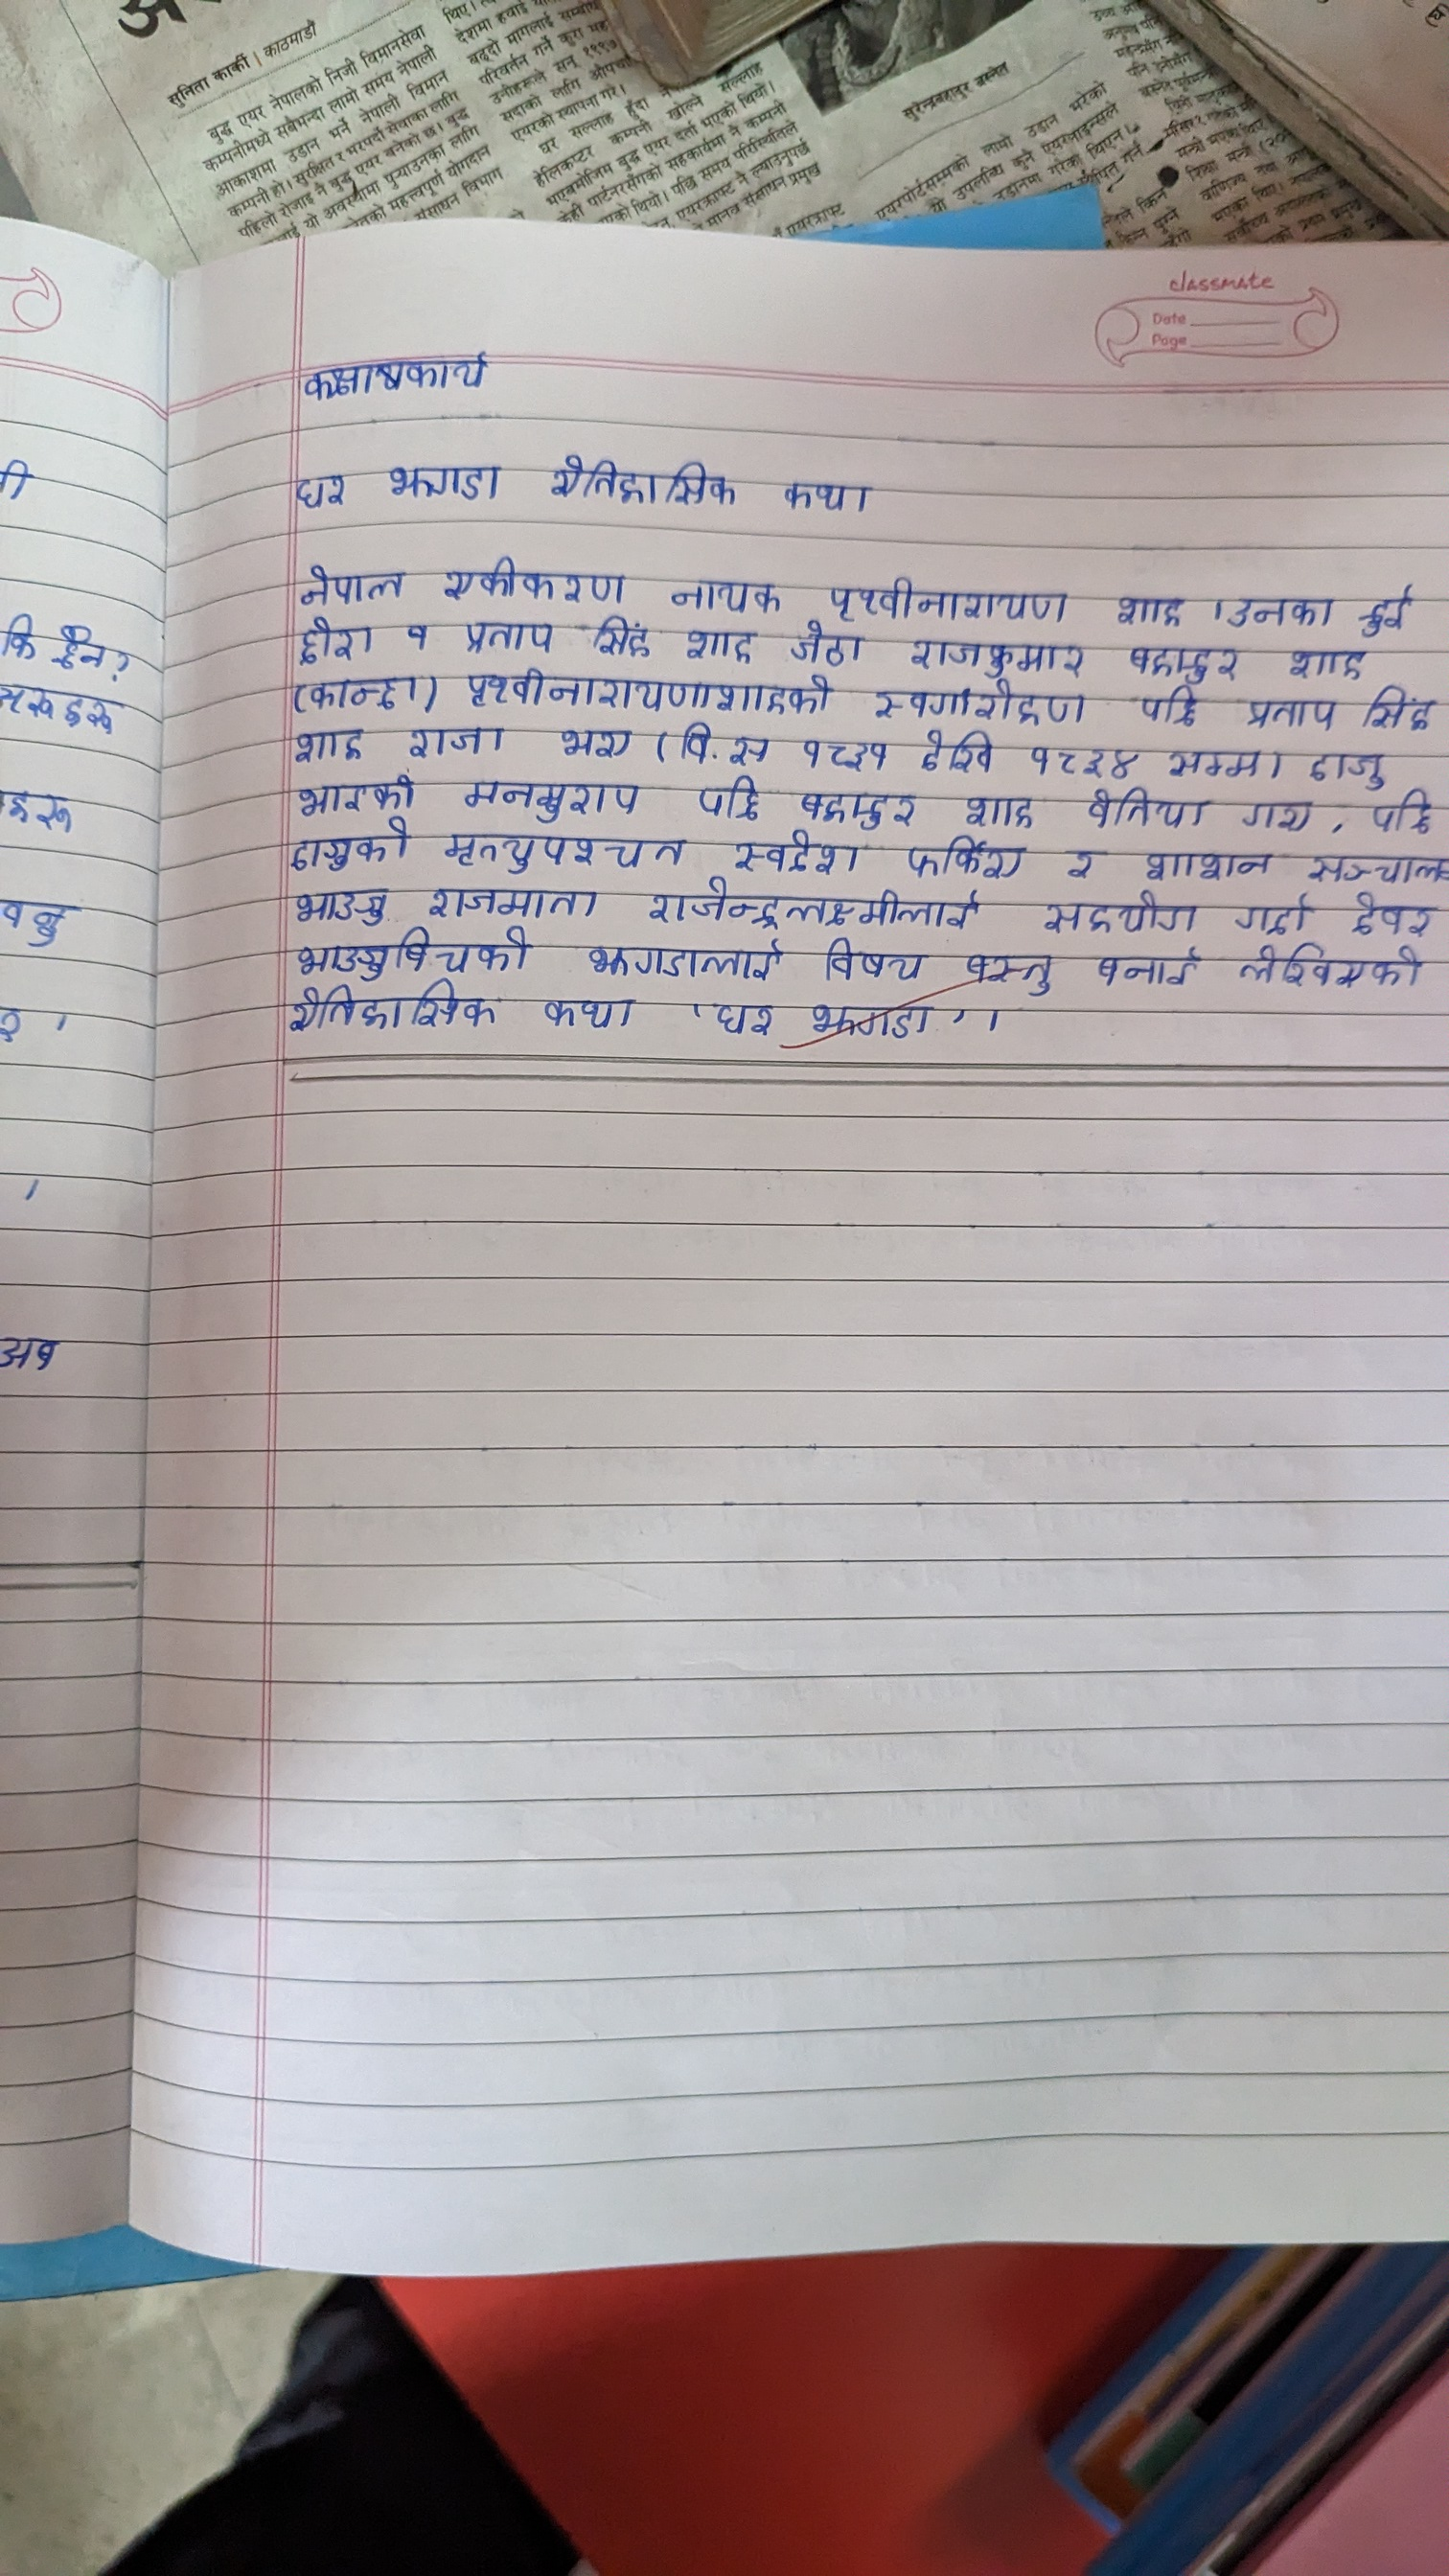text: (456, 669, 835, 717), (642, 881, 980, 931), (541, 444, 734, 517), (278, 927, 538, 980), (280, 338, 499, 400), (814, 573, 1076, 623), (267, 987, 501, 1035), (437, 832, 686, 874), (433, 556, 635, 607), (867, 681, 1092, 727), (580, 934, 793, 982), (1235, 947, 1421, 991), (462, 782, 646, 824), (274, 819, 412, 876), (895, 637, 1086, 676), (1033, 892, 1203, 934), (428, 885, 603, 922), (727, 833, 860, 878), (821, 938, 939, 985), (801, 996, 934, 1039), (674, 566, 791, 614), (1302, 853, 1449, 890), (798, 786, 916, 832), (1083, 787, 1210, 830), (899, 835, 1026, 878), (283, 775, 421, 814), (287, 550, 407, 594), (1139, 847, 1274, 886), (1090, 948, 1203, 994), (372, 460, 506, 497), (1168, 745, 1286, 786), (290, 612, 380, 663), (1021, 741, 1139, 780), (778, 481, 876, 525), (1125, 642, 1240, 679), (961, 948, 1053, 994), (538, 996, 640, 1037), (464, 617, 557, 662), (1350, 579, 1419, 637), (1361, 686, 1438, 738), (303, 678, 419, 711), (1237, 695, 1338, 734), (1281, 642, 1373, 685), (1352, 892, 1433, 939), (547, 725, 639, 766), (798, 736, 890, 777), (920, 731, 998, 778), (692, 773, 764, 823), (1224, 593, 1336, 625), (290, 890, 395, 924), (1307, 745, 1385, 789), (407, 724, 508, 757), (1109, 586, 1189, 628), (1235, 895, 1313, 938), (281, 467, 352, 513), (290, 725, 373, 764), (787, 626, 863, 669), (1132, 685, 1203, 729), (1368, 793, 1435, 839), (959, 791, 1037, 830), (1237, 800, 1323, 833), (593, 616, 658, 660), (683, 626, 757, 662), (717, 1001, 777, 1044), (676, 717, 711, 771), (725, 727, 770, 768), (1063, 849, 1100, 885), (402, 617, 435, 651)
